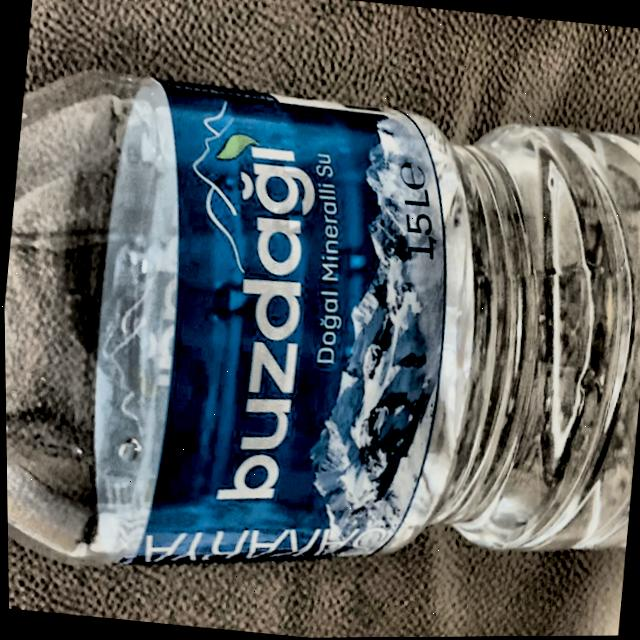plastic: (4, 64, 640, 571)
